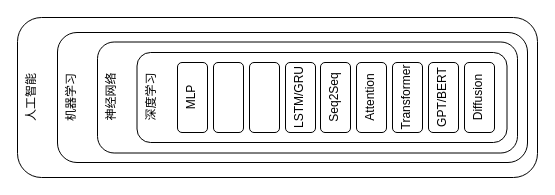
Some shapes in this 555 by 195 pixel diagram are drawn without their labels. Each missing label, with the centre of its shape:
"CNN" goes at pixel 228 97.
"RNN" goes at pixel 264 97.
